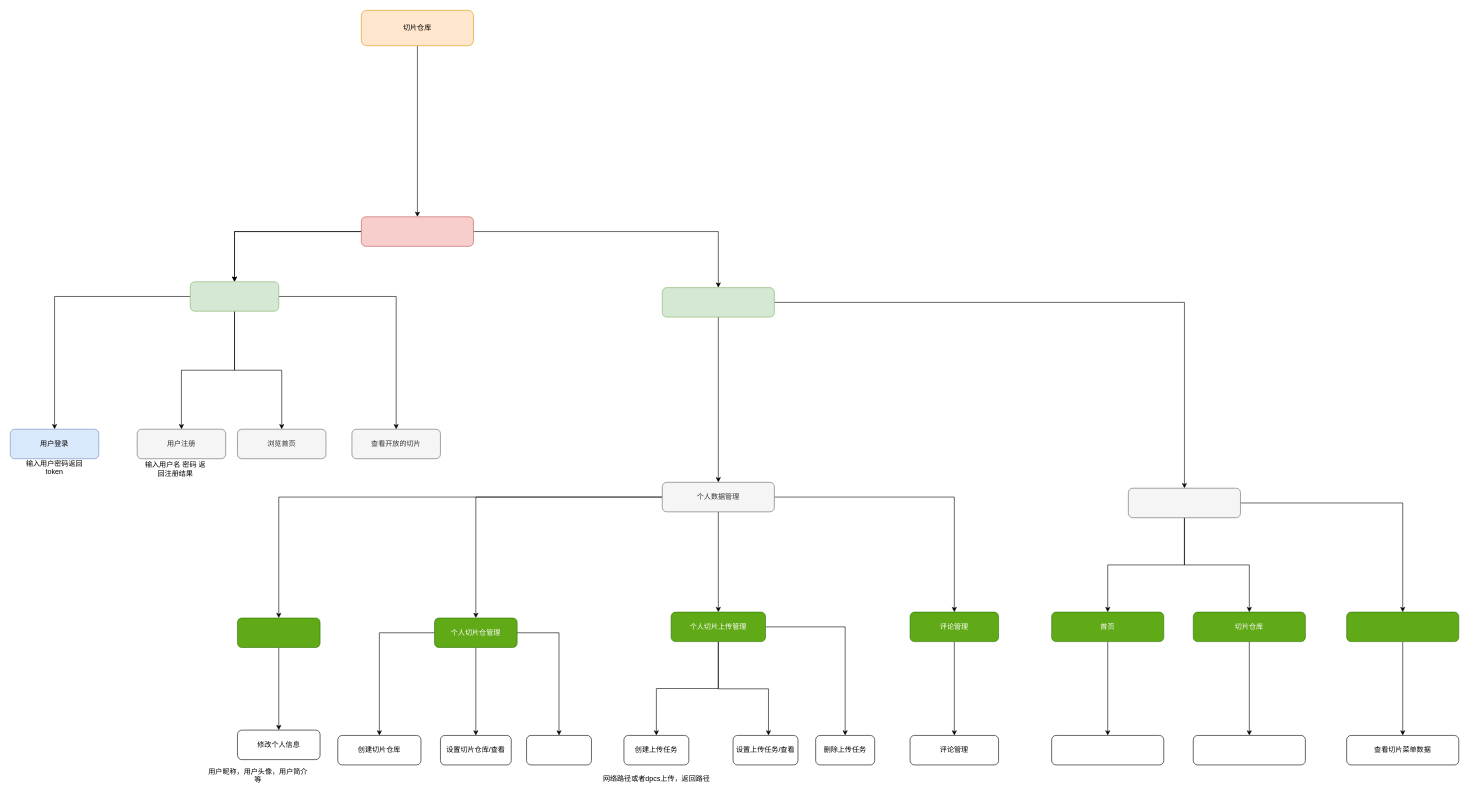
Some shapes in this 1469 by 805 pixel diagram are drawn without their labels. Each missing label, with the centre of its shape:
个人基本信息管理: the point at 278,632
切片: the point at 1402,627
删除切片仓管理: the point at 558,750
查看切片仓库菜单数据: the point at 1249,750
查看首页数据: the point at 1107,750
浏览功能: the point at 1184,503
用户[无 token]: the point at 234,296
用户[有 token]: the point at 718,302
用户模块: the point at 417,231
